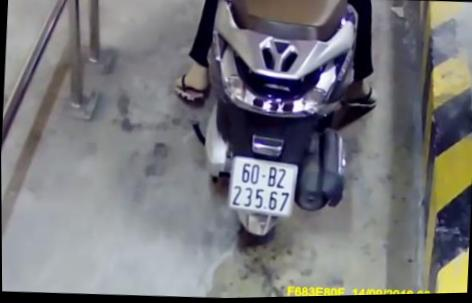LP: (225, 152, 299, 223)
